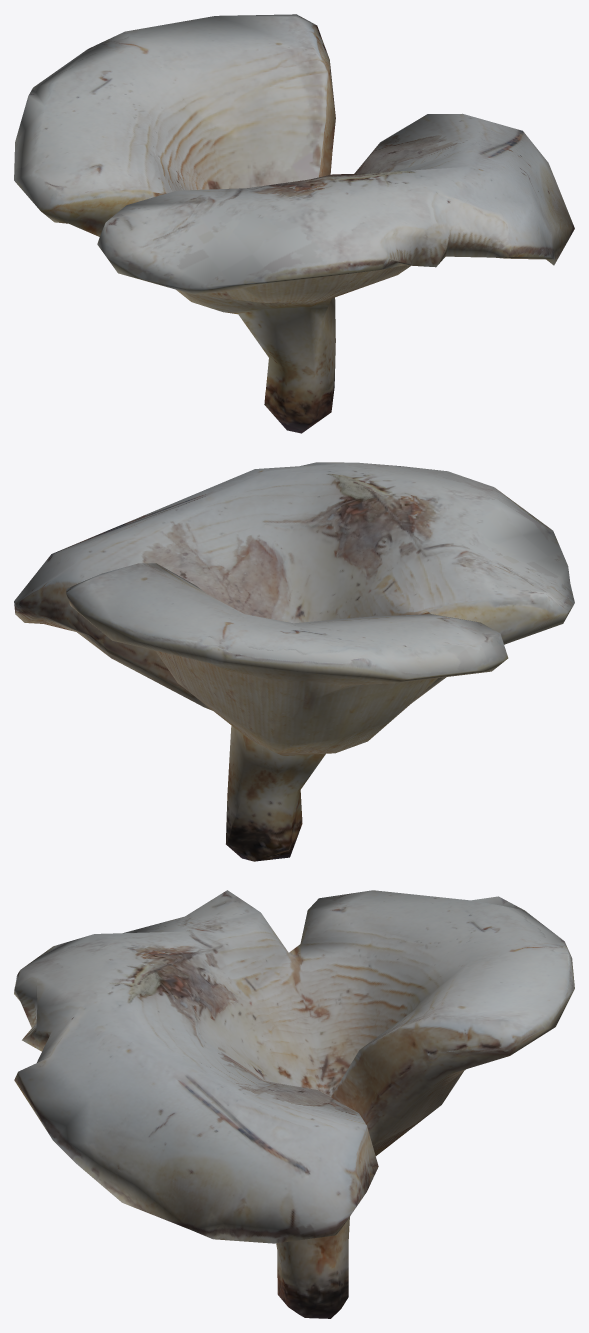
The model's file is Lactarius_pergamenus_03.FBX.
3 renders of one model, top to bottom at view 1: azimuth 30°, elevation 25°; view 2: azimuth 150°, elevation 25°; view 3: azimuth 270°, elevation 25°, orthographic. The views are drawn at different scales.
Parts seen in each view (by area): view 1: Lactarius_pergamenus_03_LOD0; view 2: Lactarius_pergamenus_03_LOD0; view 3: Lactarius_pergamenus_03_LOD0.
Boxes of the visible parts, x1,y1,x2,y2 form: Lactarius_pergamenus_03_LOD0: (14,14,574,433); Lactarius_pergamenus_03_LOD0: (14,462,574,861); Lactarius_pergamenus_03_LOD0: (14,890,574,1318).
Size of what is drawn, in the model's own units: 336 by 213 by 319.
